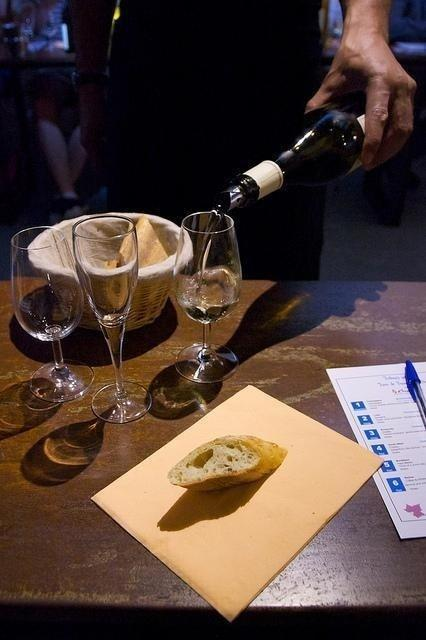bottle-glass: (212, 90, 367, 215)
glass-wine: (73, 214, 158, 422), (10, 223, 96, 401), (172, 213, 245, 384)
